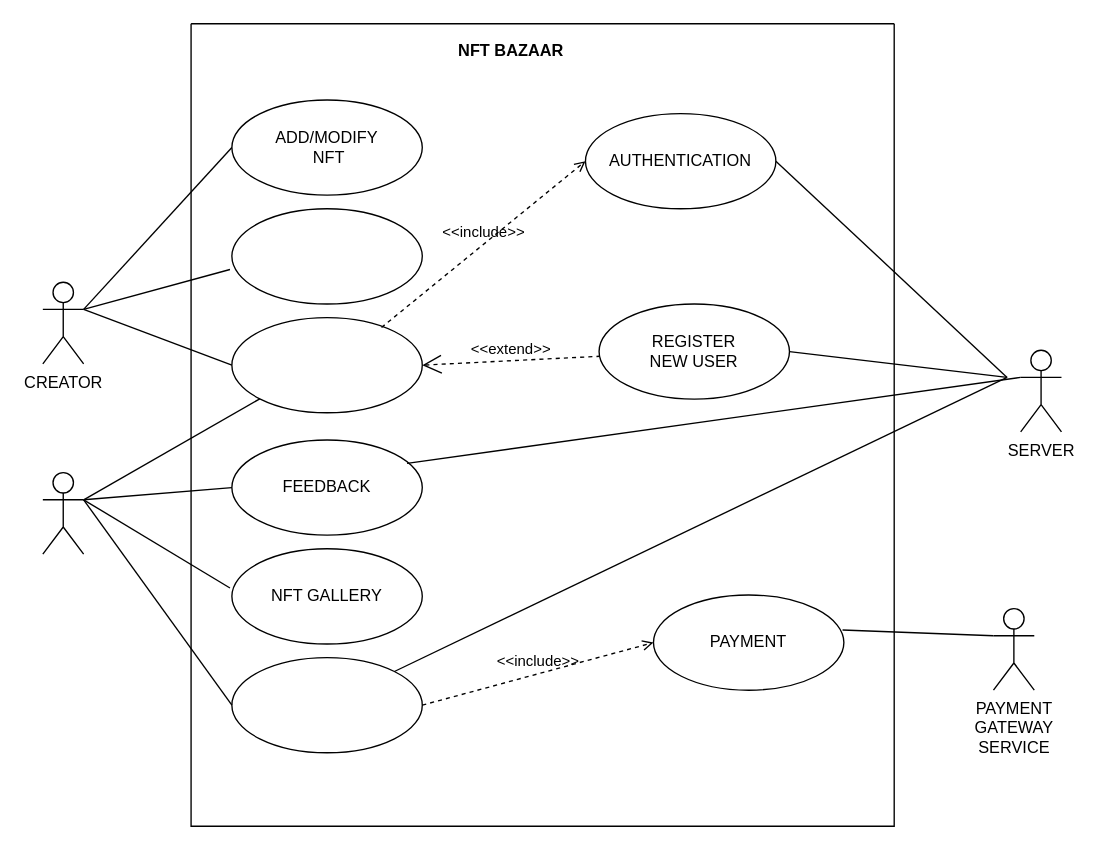
This 1098x850 diagram has some shape labels left out. The shapes that lost their labels are listed below. From the top down, each one's centre as x and y in pixels, then its label:
the point at 326,255: SELL NFT
the point at 326,364: LOGIN
the point at 62,512: BUYER
the point at 326,704: BUY NFT
